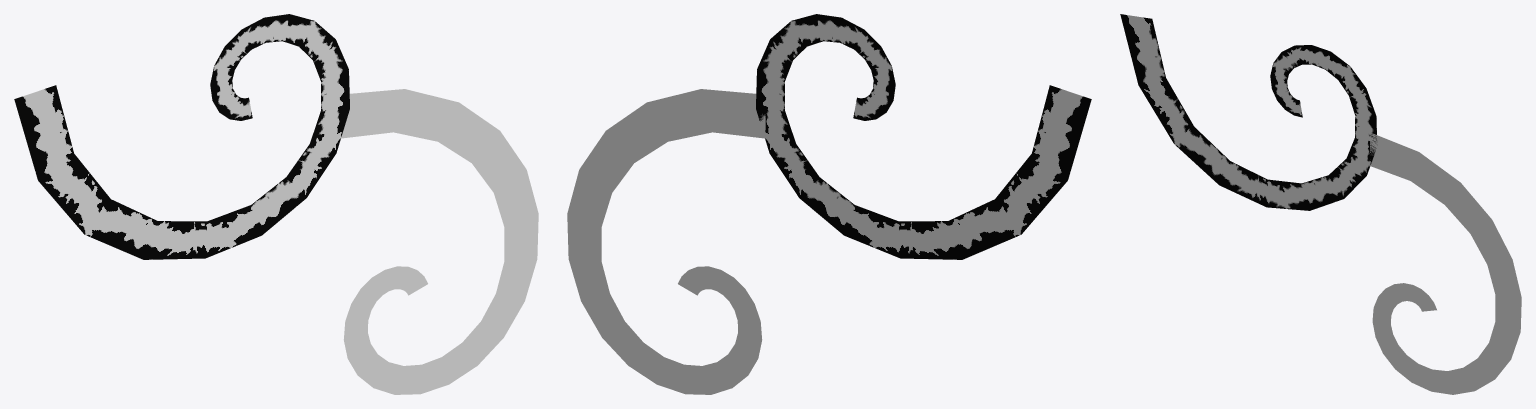
The model's file is Arc_TH_Museum_EyeSymbol 1.fbx.
The picture shows the model from 3 angles, left to right: view 1: azimuth 30°, elevation 25°; view 2: azimuth 150°, elevation 25°; view 3: azimuth 330°, elevation 25°; orthographic projection. The views are drawn at different scales.
Parts seen in each view (by area): view 1: Arc_1, Arc_2; view 2: Arc_1, Arc_2; view 3: Arc_1, Arc_2.
Boxes of the visible parts, x1=… form: Arc_1: x1=14, y1=14, x2=349, y2=259; Arc_2: x1=341, y1=89, x2=538, y2=394; Arc_1: x1=756, y1=14, x2=1091, y2=259; Arc_2: x1=567, y1=89, x2=765, y2=394; Arc_1: x1=1120, y1=14, x2=1376, y2=210; Arc_2: x1=1369, y1=132, x2=1521, y2=394.
Bounding box in the file's own units: 187 × 141 × 0.
Materials: 2 (2 with a texture image).
